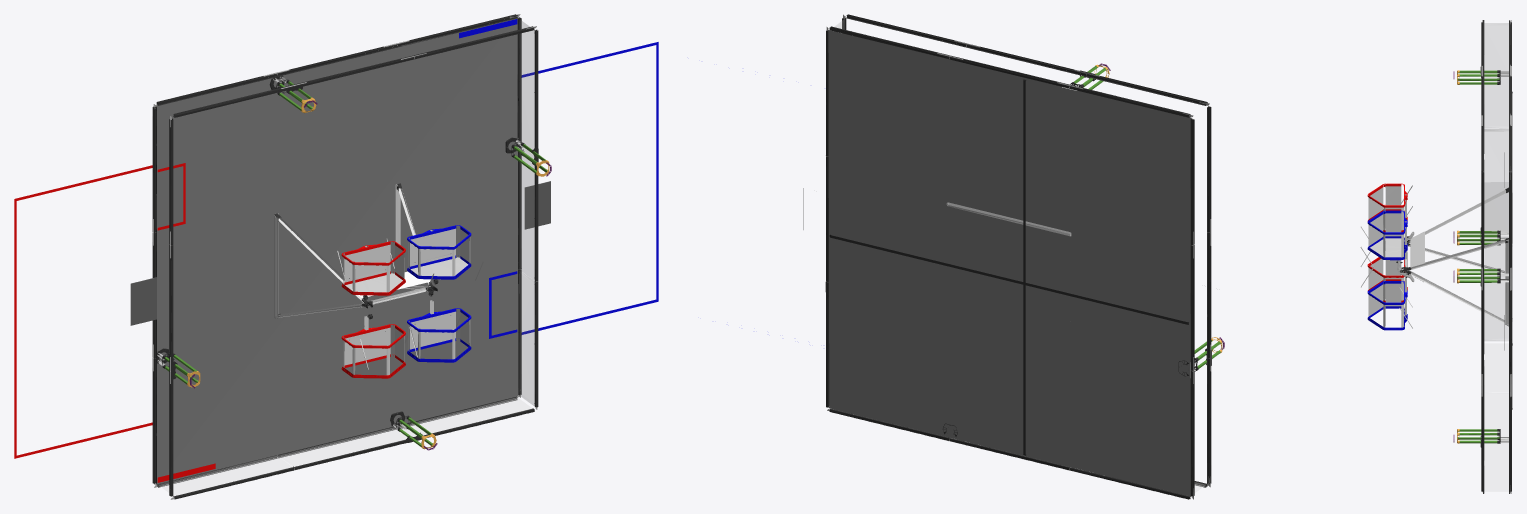
File: field-low.glb
3 renders of one model, left to right at view 1: azimuth 30°, elevation 25°; view 2: azimuth 150°, elevation 25°; view 3: azimuth 270°, elevation 25°, orthographic. The views are drawn at different scales.
Parts seen in each view (by area): view 1: tiles, walls, hive_red/tray, hive_blue/tray, tape, stations, hive_red/frame, hive_blue/frame, flower_2, flower_3, hive_shared/frame; view 2: tiles, walls; view 3: walls, hive_blue/tray, hive_red/tray, hive_blue/frame, hive_red/frame, flower_2, hive_shared/frame, flower_3, flower_1, flower_0.
Boxes of the visible parts, bbox=[...] form: tiles: bbox=[156, 18, 518, 484]; walls: bbox=[152, 14, 538, 499]; hive_red/tray: bbox=[341, 241, 405, 378]; hive_blue/tray: bbox=[407, 225, 471, 362]; tape: bbox=[14, 19, 658, 482]; stations: bbox=[130, 181, 550, 325]; hive_red/frame: bbox=[274, 213, 372, 369]; hive_blue/frame: bbox=[395, 183, 483, 327]; flower_2: bbox=[505, 137, 551, 176]; flower_3: bbox=[390, 411, 437, 450]; hive_shared/frame: bbox=[350, 239, 433, 357]; tiles: bbox=[828, 30, 1191, 496]; walls: bbox=[825, 14, 1211, 499]; walls: bbox=[1481, 20, 1512, 493]; hive_blue/tray: bbox=[1367, 210, 1407, 330]; hive_red/tray: bbox=[1367, 183, 1407, 302]; hive_blue/frame: bbox=[1360, 238, 1508, 328]; hive_red/frame: bbox=[1360, 185, 1508, 273]; flower_2: bbox=[1453, 268, 1508, 286]; hive_shared/frame: bbox=[1361, 193, 1512, 318]; flower_3: bbox=[1453, 429, 1508, 447]; flower_1: bbox=[1453, 66, 1508, 84]; flower_0: bbox=[1453, 227, 1508, 245].
Bounding box in the file's own units: 251 × 144 × 60.7.
